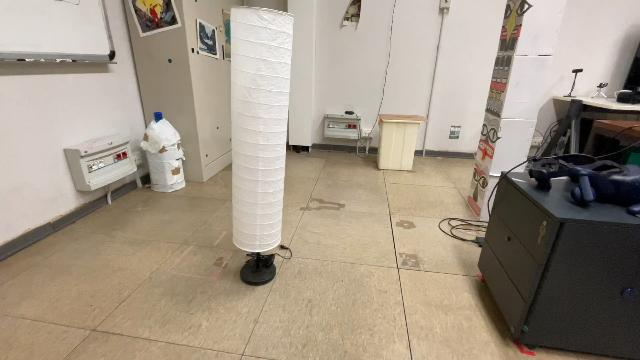Lamp: (226, 0, 296, 290)
